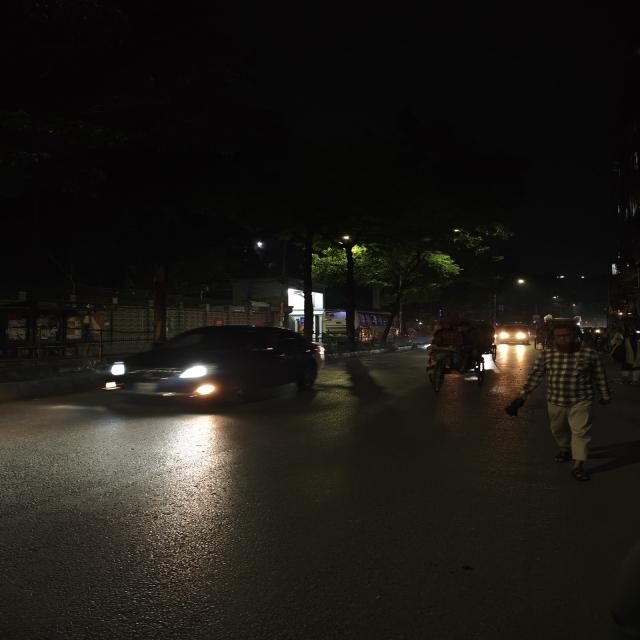car: (97, 322, 333, 416), (493, 318, 532, 346)
pedestrian: (528, 315, 616, 481), (609, 329, 637, 379)
rickshaw: (415, 318, 498, 394)
